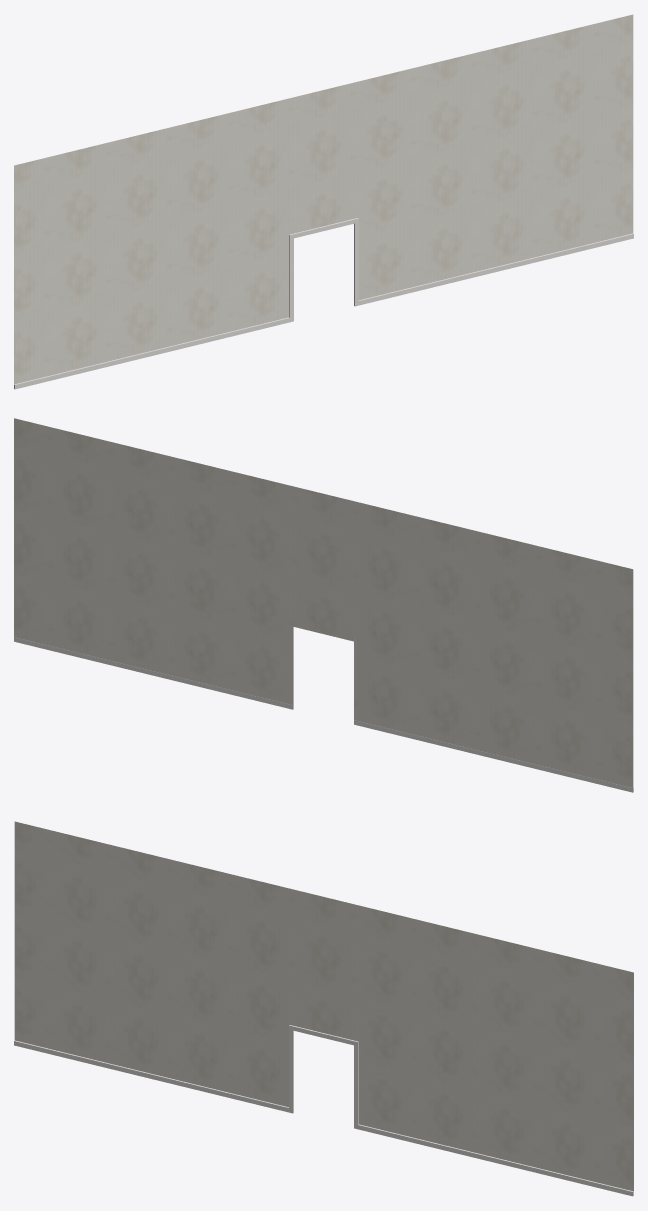
Rendered from wall20_door.gltf.
The picture shows the model from 3 angles, top to bottom: view 1: azimuth 30°, elevation 25°; view 2: azimuth 150°, elevation 25°; view 3: azimuth 330°, elevation 25°; orthographic projection.
Parts seen in each view (by area): view 1: jx_w20_door; view 2: jx_w20_door; view 3: jx_w20_door.
Boxes of the visible parts, box(x1,y1,x2,y2) form: jx_w20_door: box(14, 14, 633, 389); jx_w20_door: box(14, 418, 633, 792); jx_w20_door: box(14, 821, 633, 1196).
Bounding box in the file's own units: 20.3 × 7 × 0.05.
Materials: 2 (2 with a texture image).
